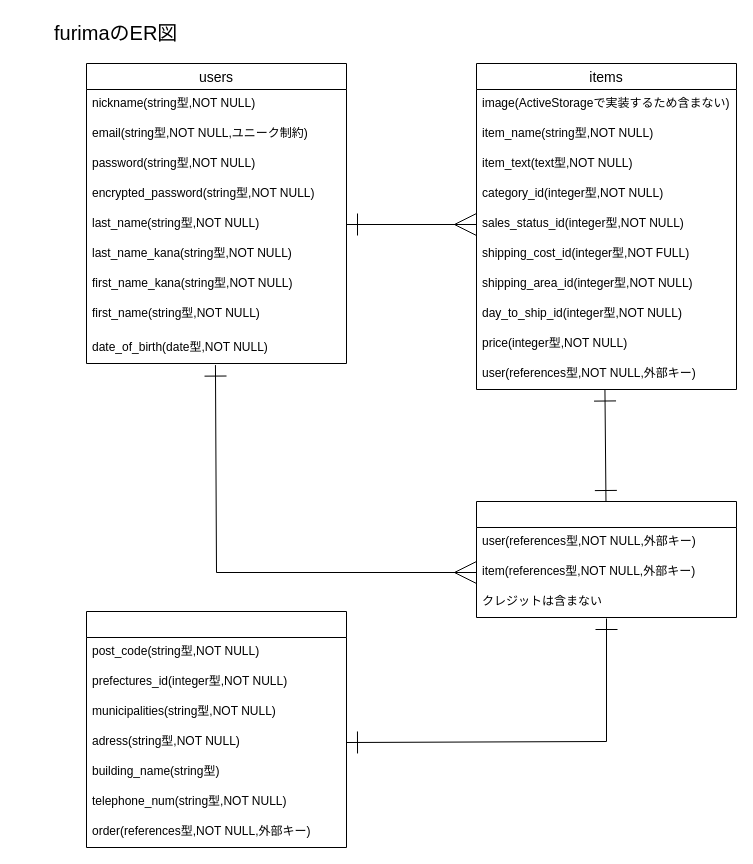
The diagram is 753 pixels wide and 864 high, and some of its shapes have lost their labels. Each missing label, with the box of its shape:
addresses: (86, 610, 346, 848)
orders: (476, 500, 736, 618)
